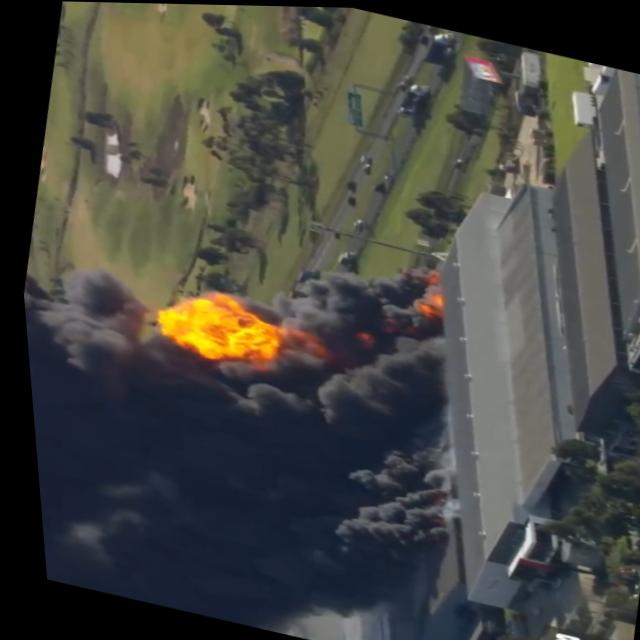Fire: (132, 276, 342, 397)
